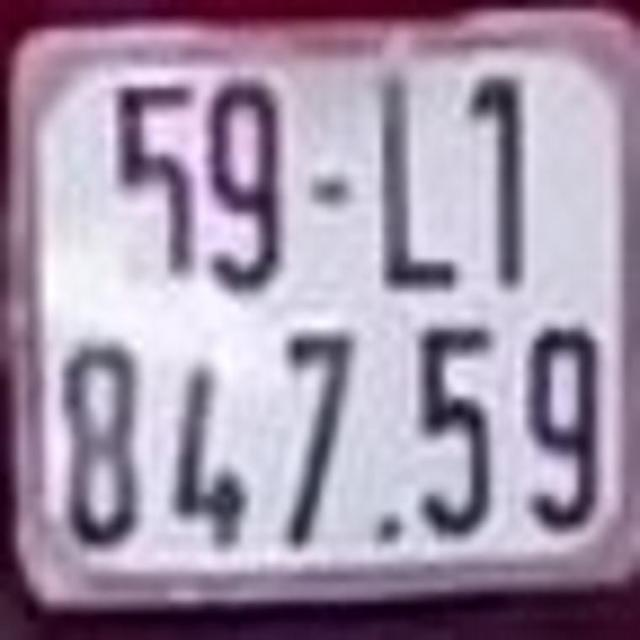1: (464, 61, 538, 296)
4: (168, 348, 252, 550)
5: (104, 78, 199, 308), (414, 318, 494, 540)
7: (274, 321, 358, 548)
8: (52, 328, 141, 545)
9: (202, 73, 290, 306), (515, 322, 608, 533)
L: (367, 52, 458, 295)
